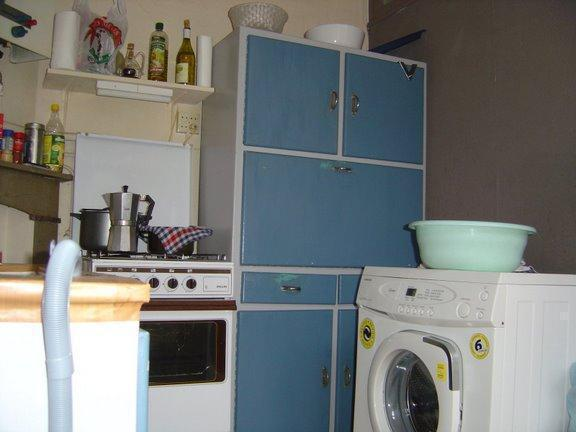Electrodomestico: (356, 269, 574, 431), (93, 256, 232, 429)
